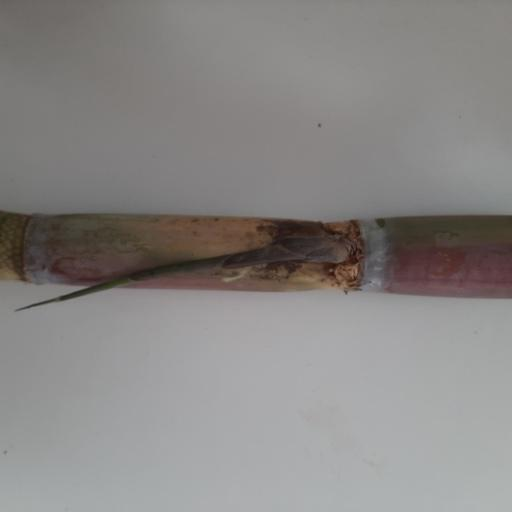Sprouted_Bud: (264, 232, 354, 263)
